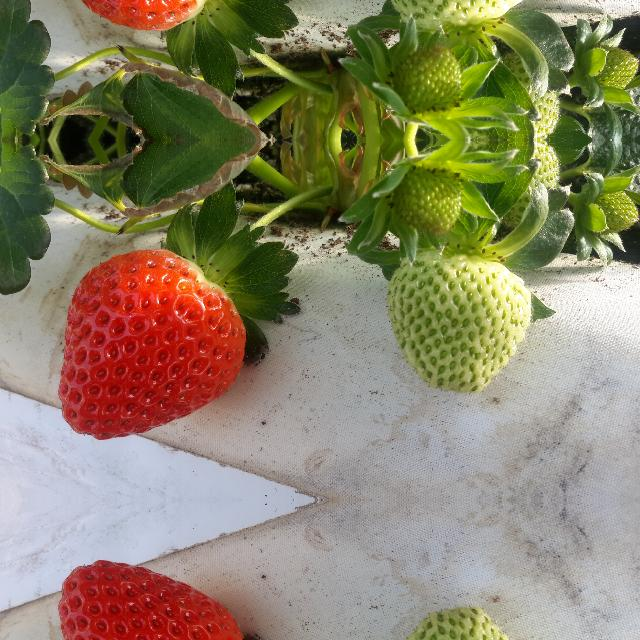Health_100: (58, 249, 244, 439), (57, 561, 244, 640)
Health_25: (386, 244, 526, 394), (389, 155, 463, 233), (389, 47, 463, 125), (498, 142, 560, 226), (498, 54, 560, 138), (385, 0, 526, 36), (385, 606, 526, 640), (586, 46, 636, 100), (586, 180, 636, 233)
